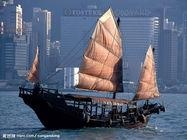fanchuan: (17, 6, 166, 130)
